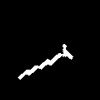half_double_crochet: (18, 44, 72, 78)
